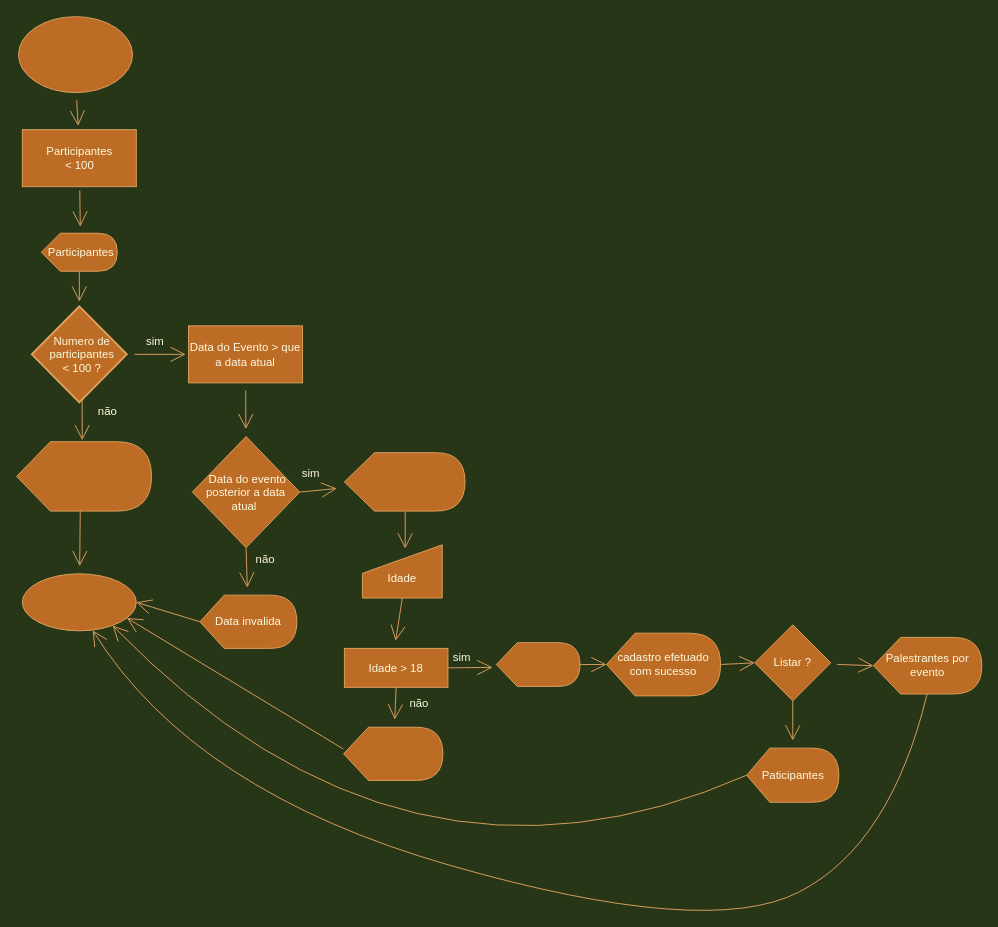
Image size: 998x927. Some labels were removed from this diagram. The box of each missing label's shape, as (x1, y1, x2, y2) in pixels:
Cadastro não permitido: (343, 726, 443, 780)
Efetuar cadastro: (495, 642, 580, 686)
Excedeu o limite de Cadastro: (16, 441, 152, 511)
Fim: (21, 573, 136, 631)
Informar sua idade: (343, 452, 465, 511)
Inicio: (18, 16, 133, 93)
